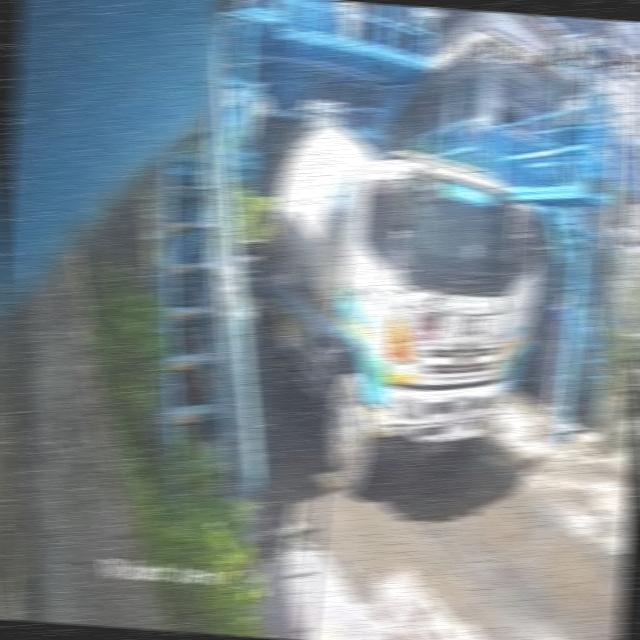cement_mixer_truck: (251, 129, 540, 492)
